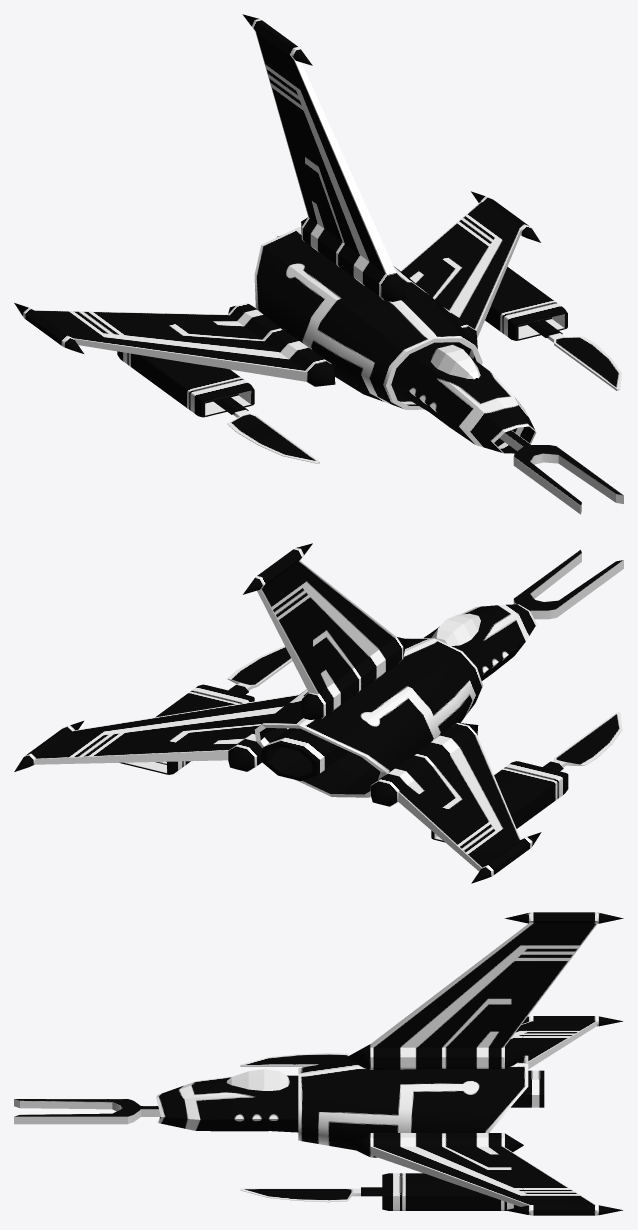
File: playerShip.fbx
The picture shows the model from 3 angles, top to bottom: view 1: azimuth 30°, elevation 25°; view 2: azimuth 150°, elevation 25°; view 3: azimuth 270°, elevation 25°; orthographic projection. The views are drawn at different scales.
Visible parts, largest first — view 1: Ship_mesh01, Wing_R_02, Wing_R_01, Wing_L_01, Thruster_R_01, Knife_mesh01 (×2), Thruster_L_01, Fork_mesh02, Cockpit01; view 2: Ship_mesh01, Wing_R_02, Wing_R_01, Wing_L_01, Knife_mesh01 (×2), Thruster_R_01, Thruster_Center01, Fork_mesh02, Thruster_L_01, Cockpit01; view 3: Ship_mesh01, Wing_R_02, Wing_L_01, Thruster_L_01, Fork_mesh02, Wing_R_01, Knife_mesh01 (×2), Cockpit01, Thruster_Center01.
Part boxes in pixels (left/top/right/bottom): Ship_mesh01: left=254, top=227, right=536, bottom=453; Wing_R_02: left=242, top=14, right=406, bottom=301; Wing_R_01: left=14, top=303, right=335, bottom=386; Wing_L_01: left=400, top=191, right=540, bottom=348; Thruster_R_01: left=117, top=351, right=254, bottom=417; Knife_mesh01 (×2): left=212, top=319, right=621, bottom=463; Thruster_L_01: left=485, top=267, right=567, bottom=340; Fork_mesh02: left=499, top=430, right=623, bottom=514; Cockpit01: left=430, top=344, right=480, bottom=379; Ship_mesh01: left=254, top=604, right=536, bottom=797; Wing_R_02: left=243, top=543, right=406, bottom=719; Wing_R_01: left=370, top=722, right=541, bottom=883; Wing_L_01: left=14, top=694, right=299, bottom=771; Knife_mesh01 (×2): left=227, top=646, right=622, bottom=771; Thruster_R_01: left=431, top=761, right=568, bottom=842; Thruster_Center01: left=261, top=728, right=349, bottom=780; Fork_mesh02: left=513, top=549, right=623, bottom=619; Thruster_L_01: left=119, top=684, right=254, bottom=774; Cockpit01: left=431, top=613, right=480, bottom=645; Ship_mesh01: left=156, top=1055, right=528, bottom=1150; Wing_R_02: left=346, top=912, right=623, bottom=1069; Wing_L_01: left=346, top=1133, right=622, bottom=1215; Thruster_L_01: left=382, top=1173, right=519, bottom=1210; Fork_mesh02: left=14, top=1099, right=160, bottom=1124; Wing_R_01: left=506, top=1016, right=622, bottom=1069; Knife_mesh01 (×2): left=240, top=1053, right=382, bottom=1202; Cockpit01: left=226, top=1069, right=289, bottom=1090; Thruster_Center01: left=511, top=1070, right=544, bottom=1107.
Size of the model in its own units: 312 by 175 by 416.
